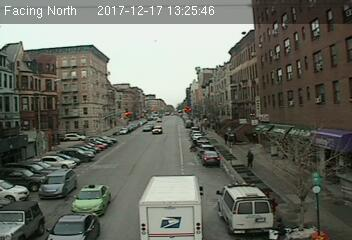car: (71, 182, 112, 217), (38, 168, 78, 200), (201, 150, 221, 167)
pedestrian: (246, 150, 253, 168)
police: (215, 180, 277, 236)
truck: (137, 173, 205, 240)
